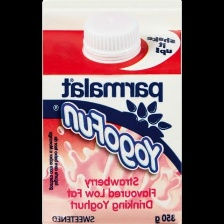carton: (41, 4, 185, 224)
